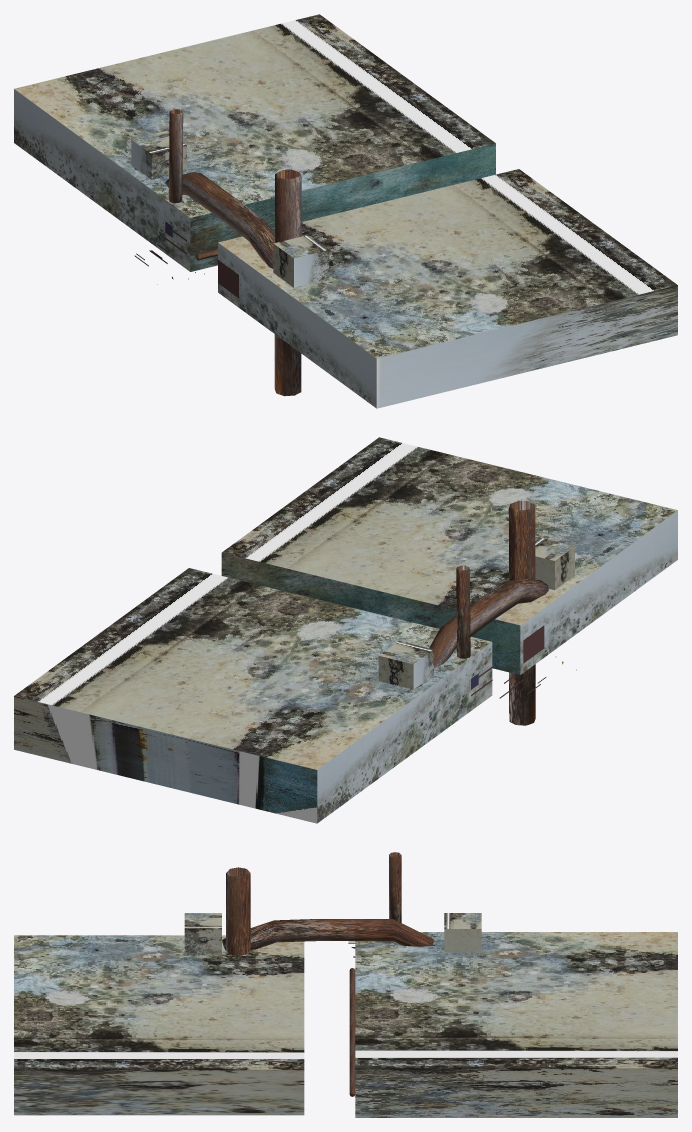
Rendered from Planta02.glb.
3 views of the same model, one above another, from view 1: azimuth 30°, elevation 25°; view 2: azimuth 150°, elevation 25°; view 3: azimuth 270°, elevation 25° (orthographic). The views are drawn at different scales.
Parts seen in each view (by area): view 1: Cube.062, Cube.061, Cube.064, Cube.065, Cube.063, Cube.060, Cube.066; view 2: Cube.061, Cube.062, Cube.064, Cube.065, Cube.060, Cube.063, Cube.066; view 3: Cube.061, Cube.062, Cube.065, Cube.064, Cube.063, Cube.060, Cube.066.
Boxes of the visible parts, x1,y1,x2,y2 form: Cube.062: (218, 169, 677, 408); Cube.061: (14, 14, 495, 271); Cube.064: (274, 169, 301, 396); Cube.065: (165, 172, 274, 268); Cube.063: (273, 235, 329, 287); Cube.060: (131, 131, 186, 179); Cube.066: (168, 109, 183, 203); Cube.061: (14, 568, 492, 823); Cube.062: (221, 437, 677, 674); Cube.064: (508, 500, 535, 725); Cube.065: (429, 579, 548, 667); Cube.060: (378, 641, 433, 689); Cube.063: (535, 537, 574, 590); Cube.066: (456, 565, 470, 658); Cube.061: (355, 932, 677, 1117); Cube.062: (14, 935, 304, 1115); Cube.065: (222, 919, 433, 950); Cube.064: (226, 867, 250, 955); Cube.063: (184, 913, 221, 955); Cube.060: (444, 913, 481, 952); Cube.066: (389, 852, 401, 922).
Bounding box in the file's own units: 10.28 × 5.99 × 17.72.
6 materials, 2 textured.
